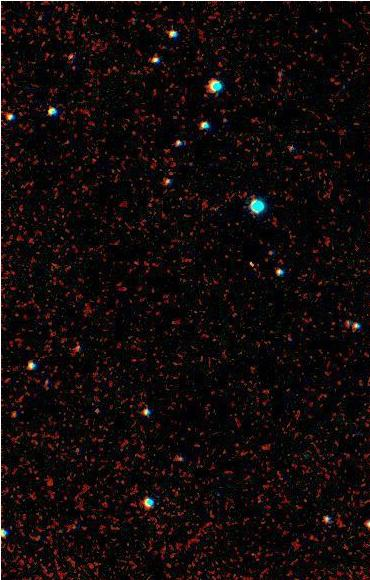star: (236, 252, 266, 282)
